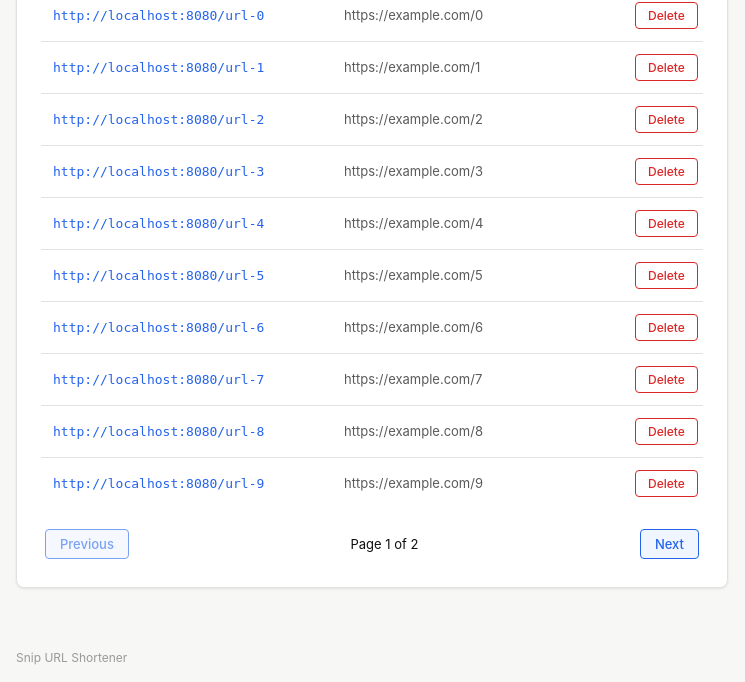
Test case: URL pagination › returns to the previous page when its last URL is deleted
(page scrolled)
Check: the button with aria-label "Delete url-0" is shown, box [635,2,698,29]
Click the button "Next".
click(669, 544)  # box [640,529,699,559]
(page scrolled)
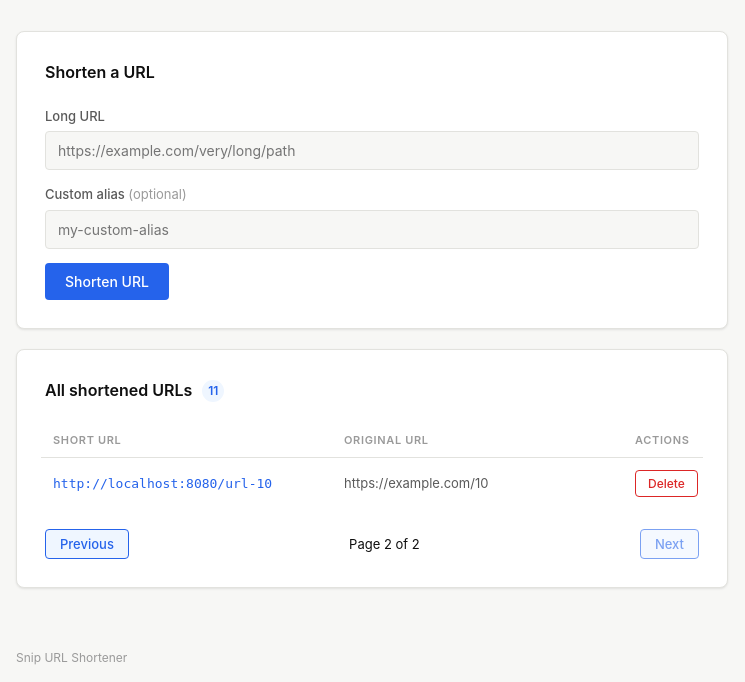
Click the button with aria-label "Delete url-10".
click(666, 484)  # box [635,470,698,497]
(page scrolled)
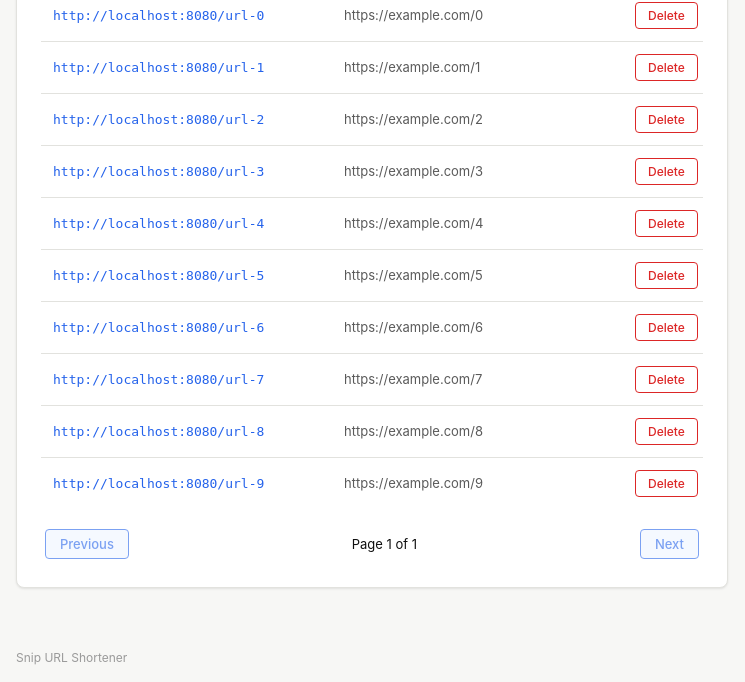
Check: the button "Next" is disabled, box [640,529,699,559]
Check: the button with aria-label "Delete url-0" is shown, box [635,2,698,29]
Check: the text "Page 1 of 1" is shown, box [352,534,417,555]
